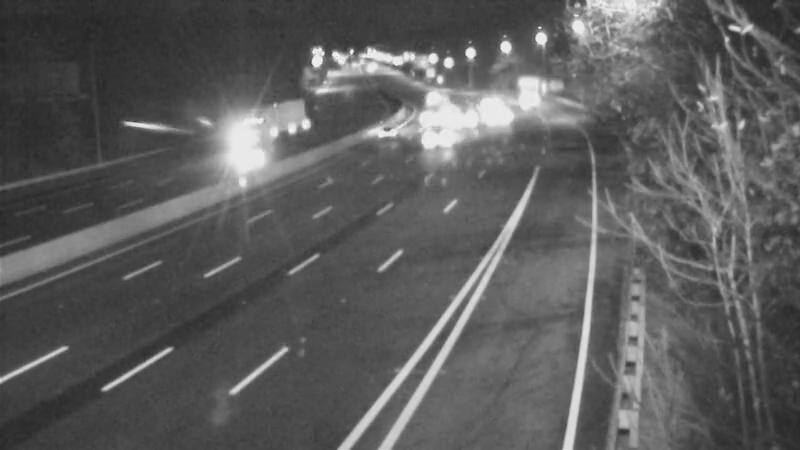vehicle: (504, 66, 554, 116), (462, 81, 512, 131), (415, 71, 465, 121), (470, 90, 520, 140), (436, 91, 486, 141), (418, 112, 468, 162), (368, 106, 418, 156), (235, 108, 285, 158)
